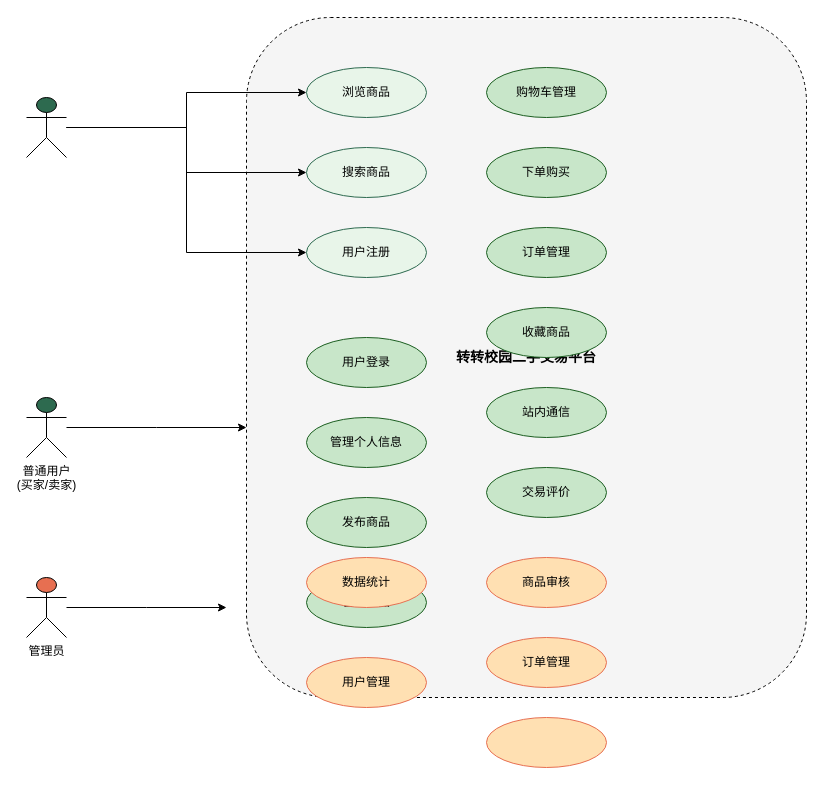
This 824x785 diagram has some shape labels left out. The box of each missing label's shape, as (x1, y1, x2, y2) in pixels:
公告管理: (486, 716, 606, 768)
游客: (26, 96, 66, 158)
